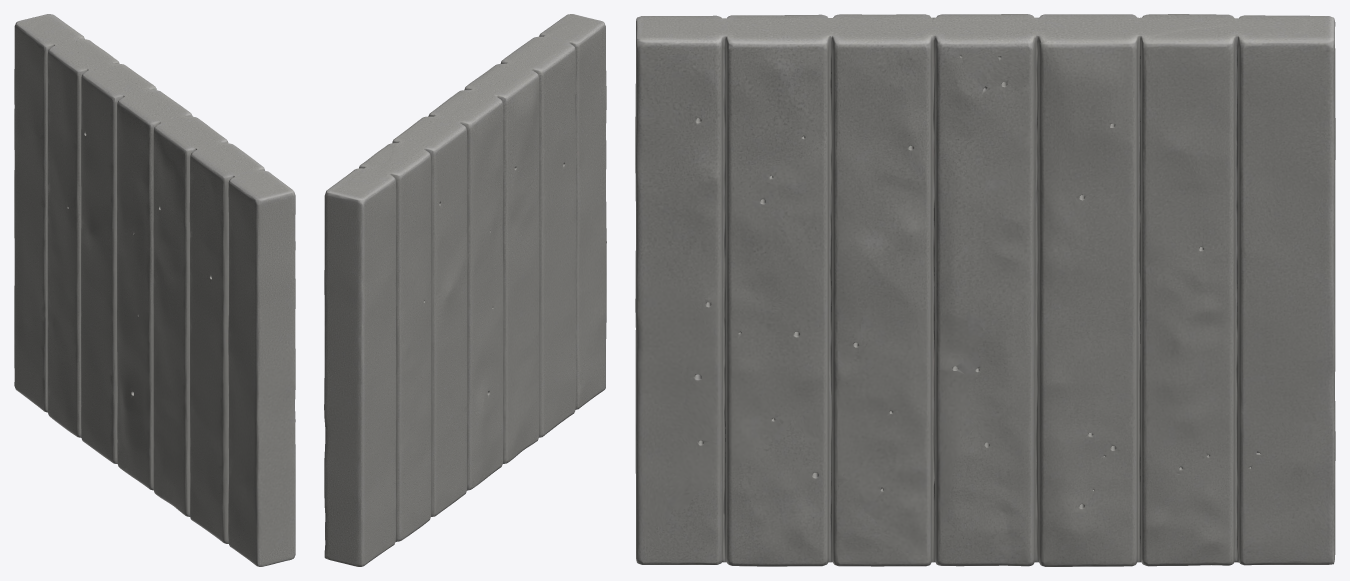
The model's file is panel_flute.glb.
3 renders of one model, left to right at view 1: azimuth 30°, elevation 25°; view 2: azimuth 150°, elevation 25°; view 3: azimuth 270°, elevation 25°, orthographic. The views are drawn at different scales.
Parts seen in each view (by area): view 1: tripo_node_c2f444a6-4292-4854-b261-eb6ce3268616; view 2: tripo_node_c2f444a6-4292-4854-b261-eb6ce3268616; view 3: tripo_node_c2f444a6-4292-4854-b261-eb6ce3268616.
Part boxes in pixels (x1=…): tripo_node_c2f444a6-4292-4854-b261-eb6ce3268616: x1=14, y1=14, x2=295, y2=566; tripo_node_c2f444a6-4292-4854-b261-eb6ce3268616: x1=324, y1=14, x2=606, y2=566; tripo_node_c2f444a6-4292-4854-b261-eb6ce3268616: x1=635, y1=14, x2=1335, y2=566.
Size of the model in its own units: 0.1679 by 1.2 by 1.44.
Materials: 1 (1 with a texture image).
